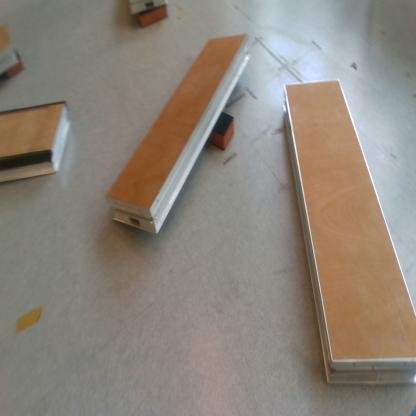Stairs: (283, 77, 416, 386), (107, 32, 254, 238), (3, 99, 73, 185), (2, 22, 18, 76)
